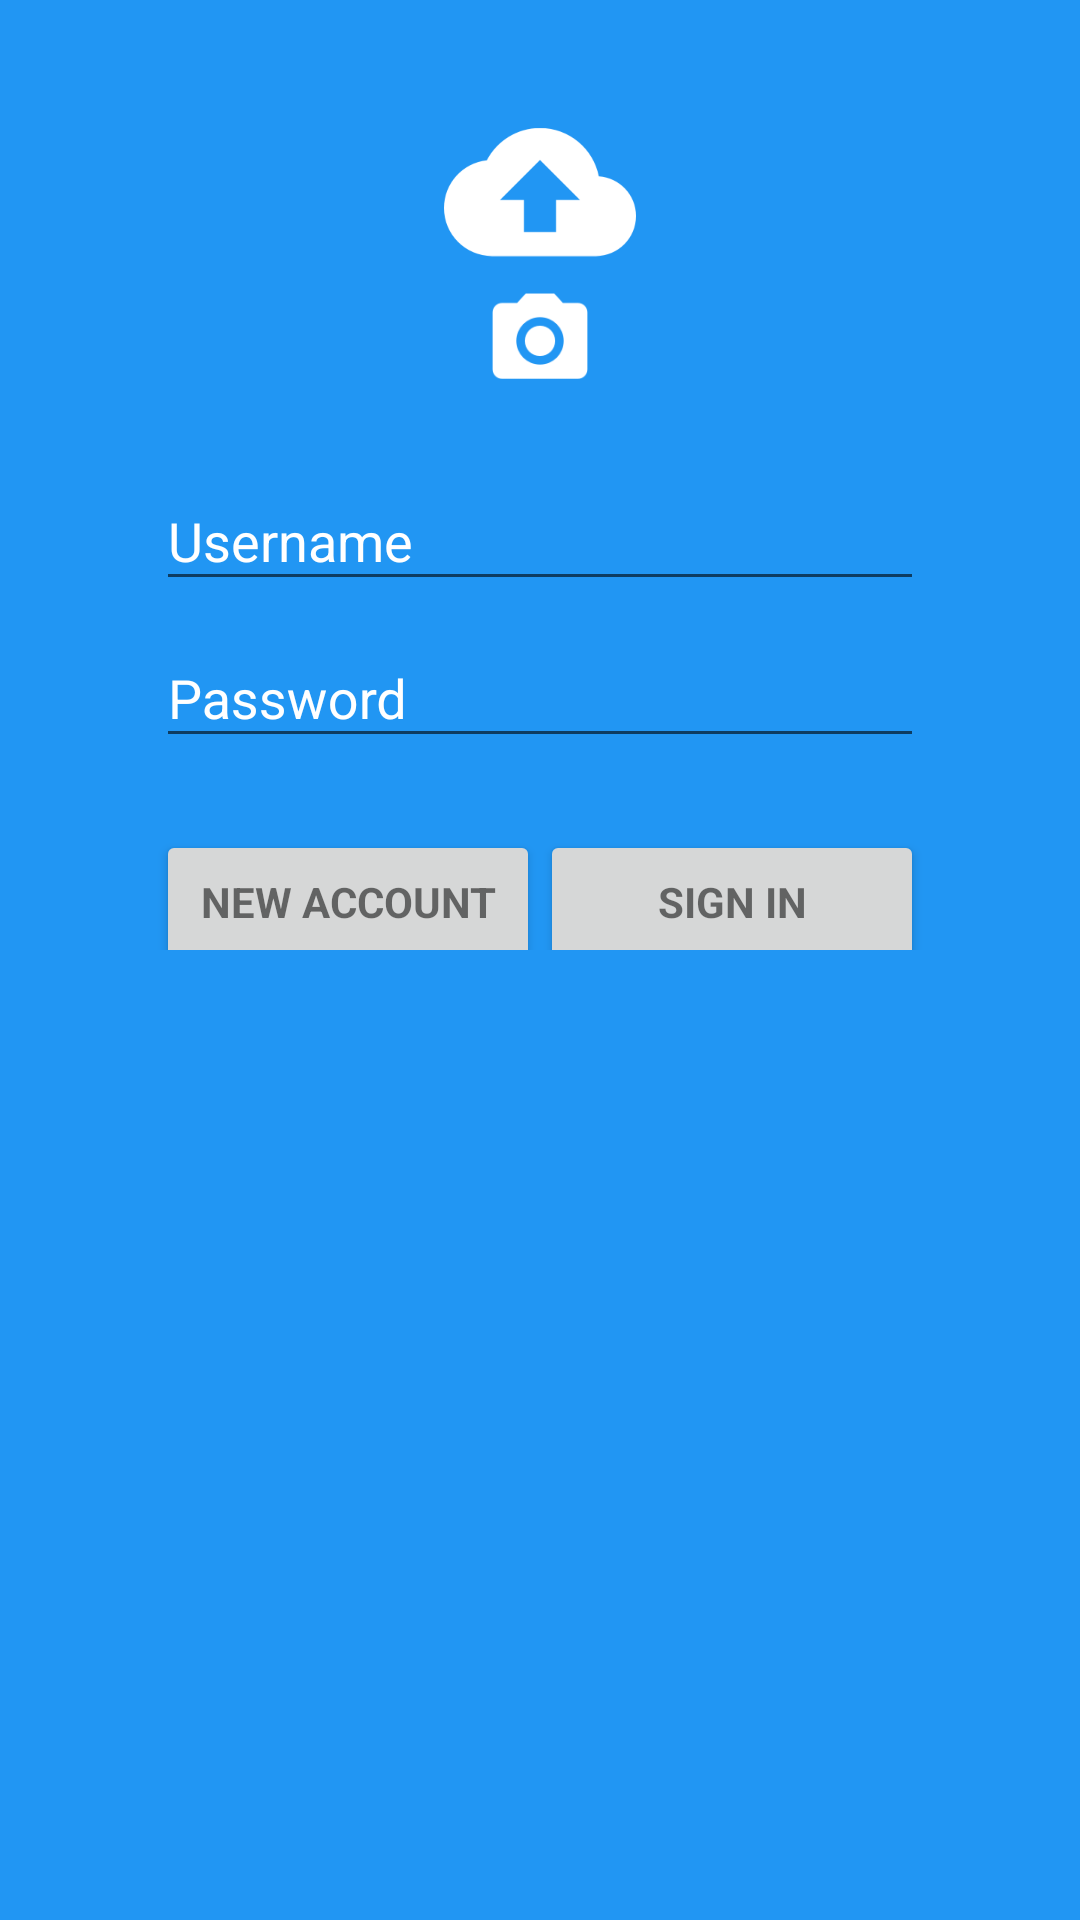

Screen size 1080*1920. Icon name, then its center in pixels as point (x, y):
cloud upload: point (540, 192)
photo camera: point (540, 336)
